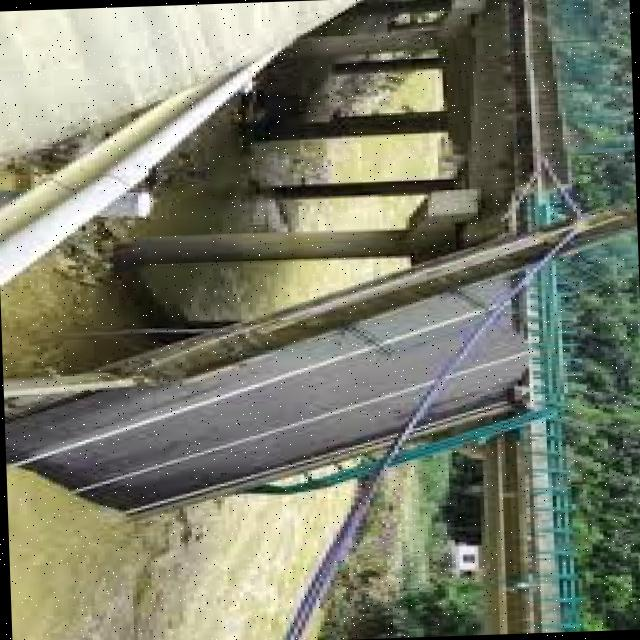bridge collapse: (8, 100, 632, 638)
